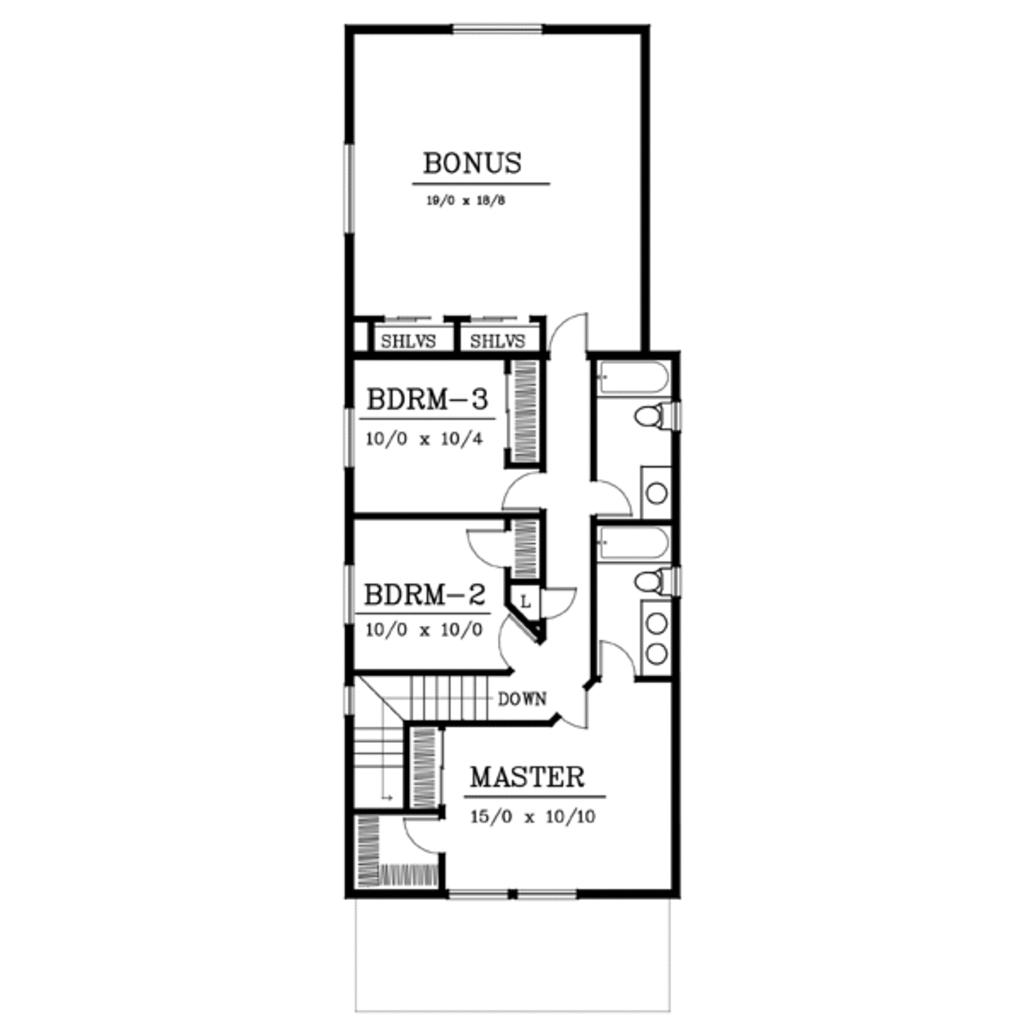door: (392, 808, 446, 863), (465, 524, 521, 573), (583, 471, 637, 519), (592, 635, 637, 687), (546, 309, 587, 363), (498, 470, 546, 514), (497, 616, 535, 671), (556, 690, 597, 733), (538, 579, 578, 617)
large_sink: (638, 401, 691, 441), (630, 568, 689, 600)
small_sink: (633, 606, 670, 681), (630, 465, 675, 525)
stairs: (351, 674, 545, 811)
tub: (587, 524, 678, 563), (589, 360, 678, 395)
window: (456, 884, 592, 903), (335, 560, 364, 630), (345, 143, 365, 239), (341, 405, 364, 470), (452, 19, 541, 35)
